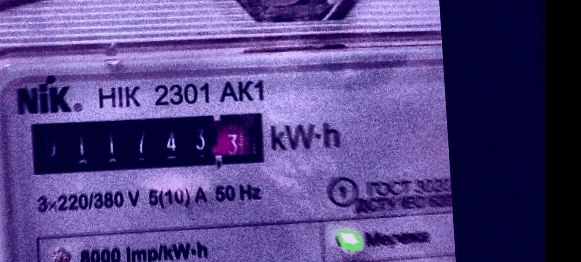0: (42, 130, 58, 159)
1: (103, 126, 117, 155), (74, 128, 86, 156)
3: (192, 124, 208, 151), (223, 131, 239, 156)
4: (162, 125, 178, 153)
7: (132, 124, 149, 153)
screen: (19, 97, 276, 187)
